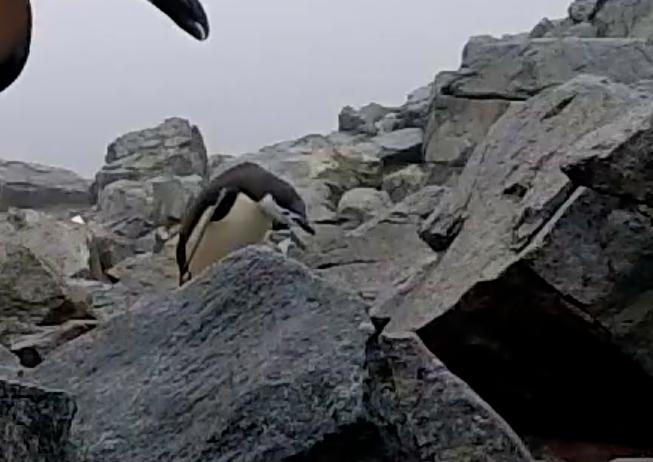Chinstrap Penguin: (0, 0, 232, 194), (154, 161, 340, 301)
